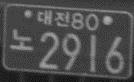0: (85, 12, 100, 32)
1: (88, 33, 98, 75)
2: (38, 31, 60, 69)
6: (103, 34, 125, 75)
8: (71, 12, 84, 30)
9: (60, 31, 82, 71)
노: (9, 27, 34, 51)
대전_O: (36, 9, 70, 27)
